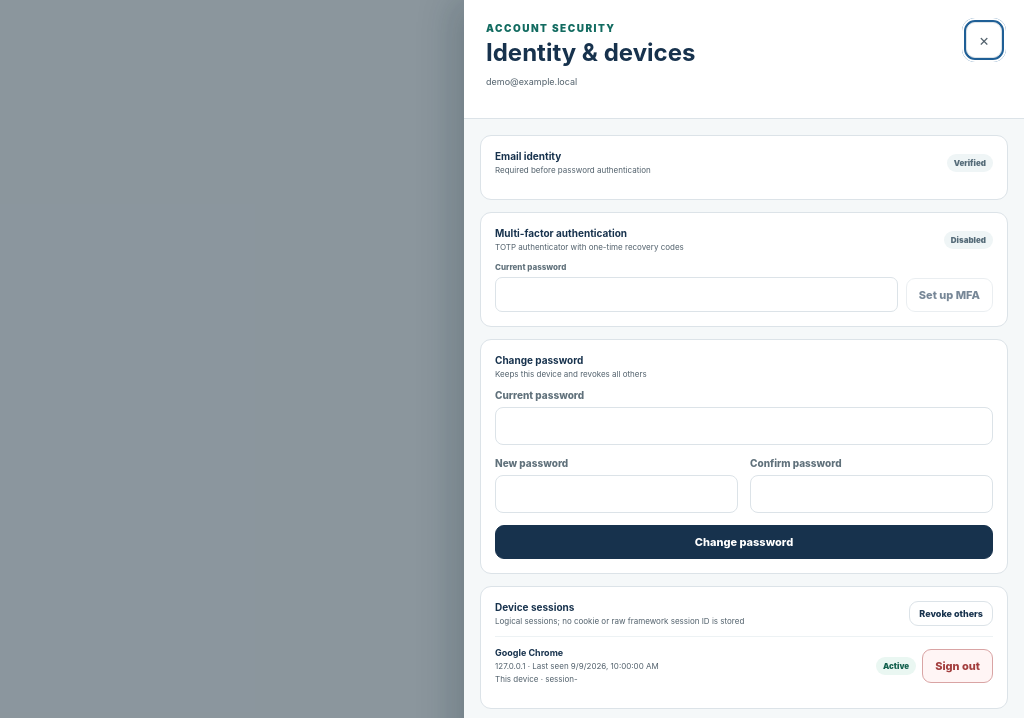
Scenario: account security panel › guides MFA setup and shows recovery codes only after confirmation
The width and height of the screenshot is (1024, 718).
Expected: the text "Multi-factor authentication" is shown, x1=495 y1=227 x2=627 y2=239
Type "prototype" into the password field labelled "Current password" below "Disabled" at [696, 294], box x1=495 y1=277 x2=898 y2=312
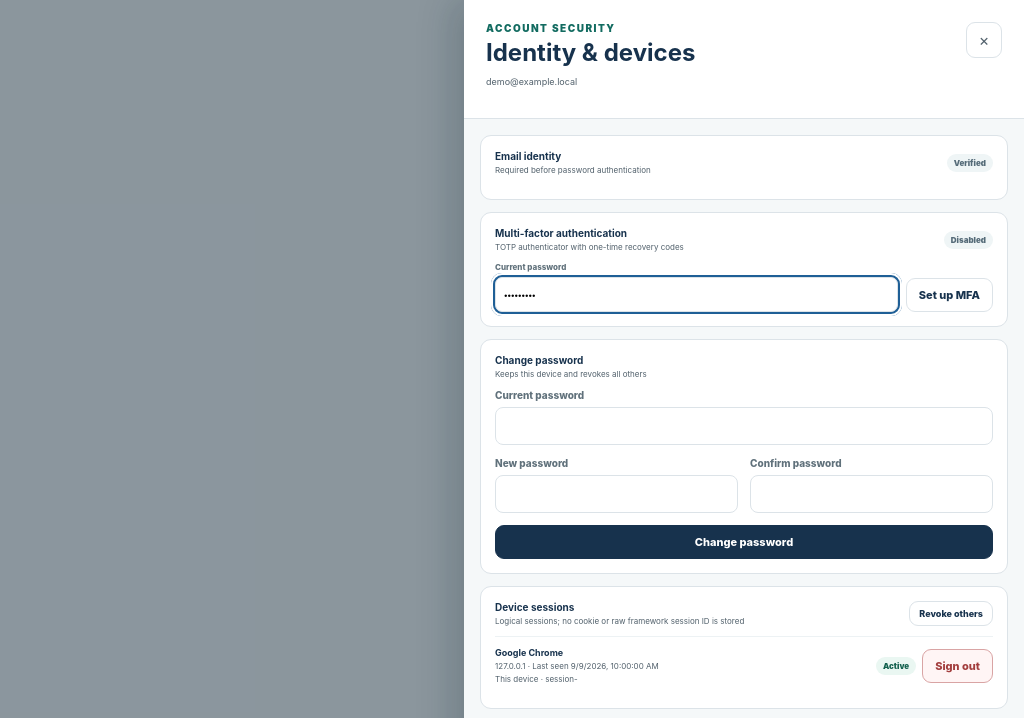
Click the button "Set up MFA" at [949, 295], box x1=906 y1=278 x2=993 y2=312
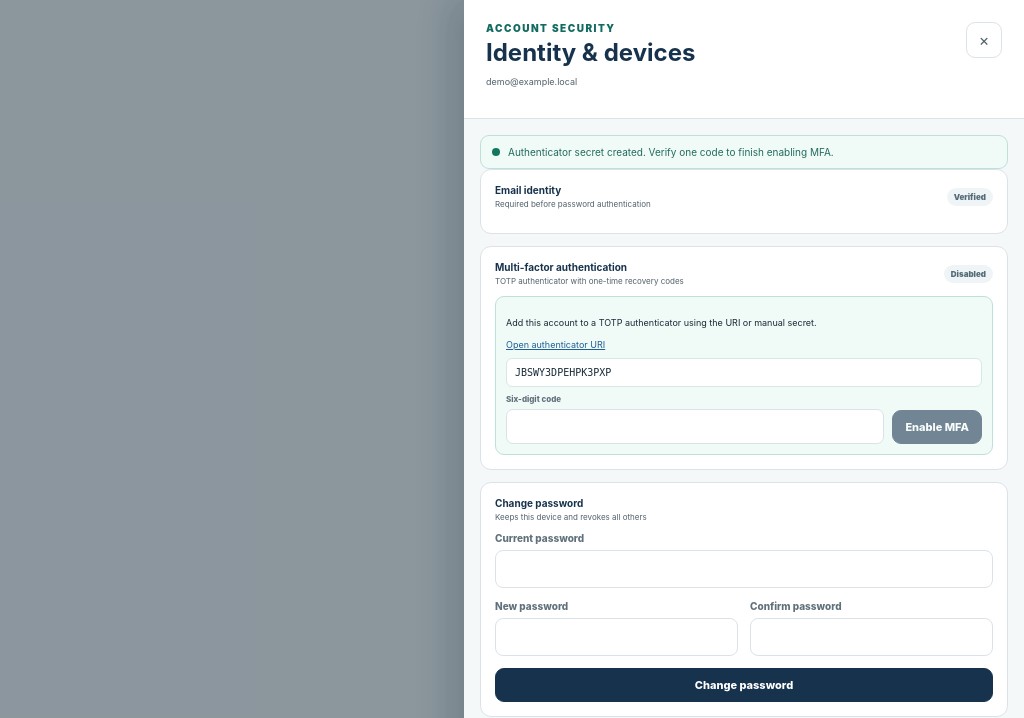
Result: the text "JBSWY3DPEHPK3PXP" is shown at x1=506 y1=358 x2=982 y2=387
Type "123456" into the field named "MFA setup code" at [695, 427], box x1=506 y1=409 x2=884 y2=444
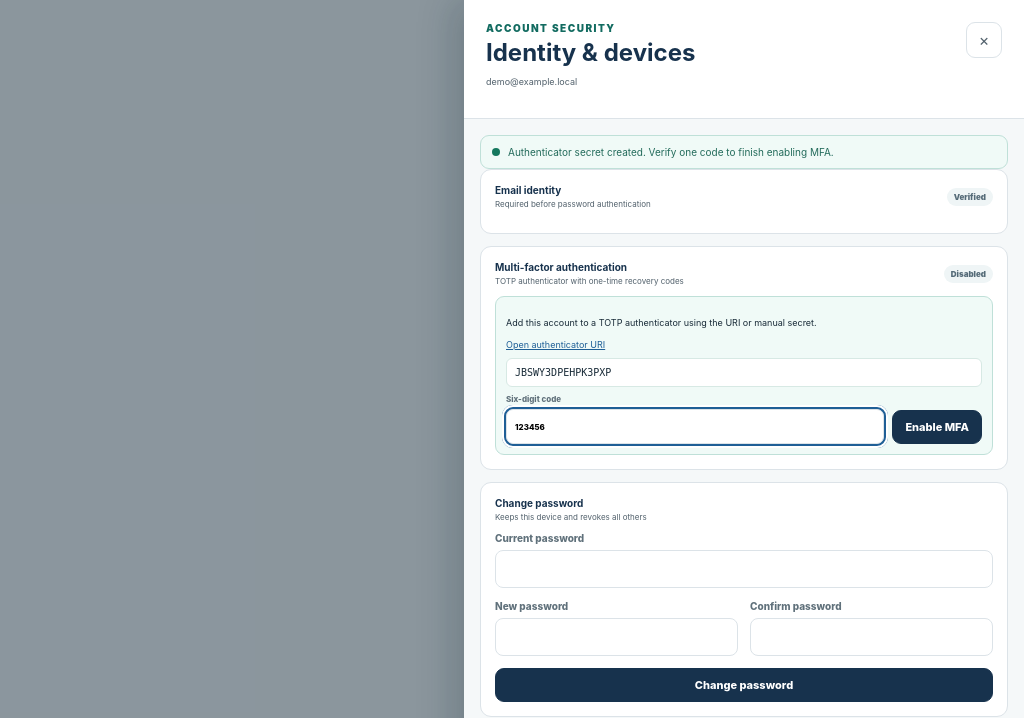
Click the button "Enable MFA" at [937, 427], box x1=892 y1=410 x2=982 y2=444
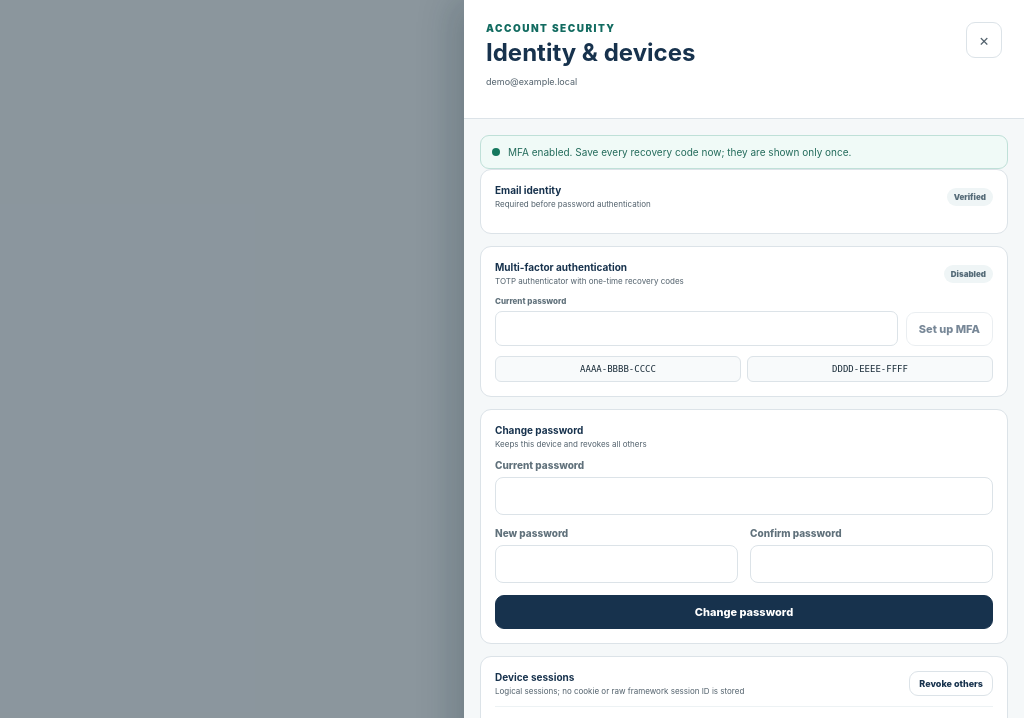
Result: the element named "One-time MFA recovery codes" shows "AAAA-BBBB-CCCC" at x1=580 y1=364 x2=656 y2=374
